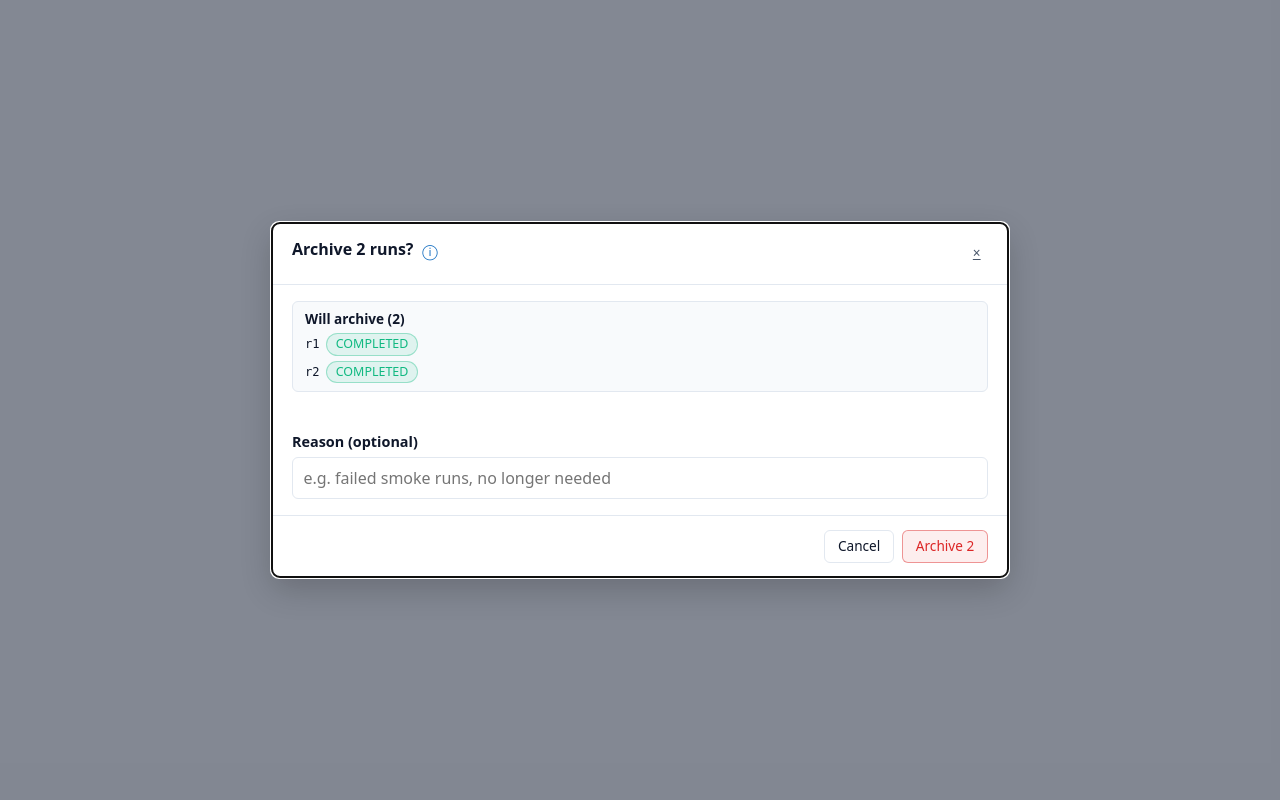
Test case: DeleteRunsConfirmDialog › on partial failure reports the successes, surfaces the error, and stays open
Click the button "Archive 2" at (945, 547), box [902,530,988,563]
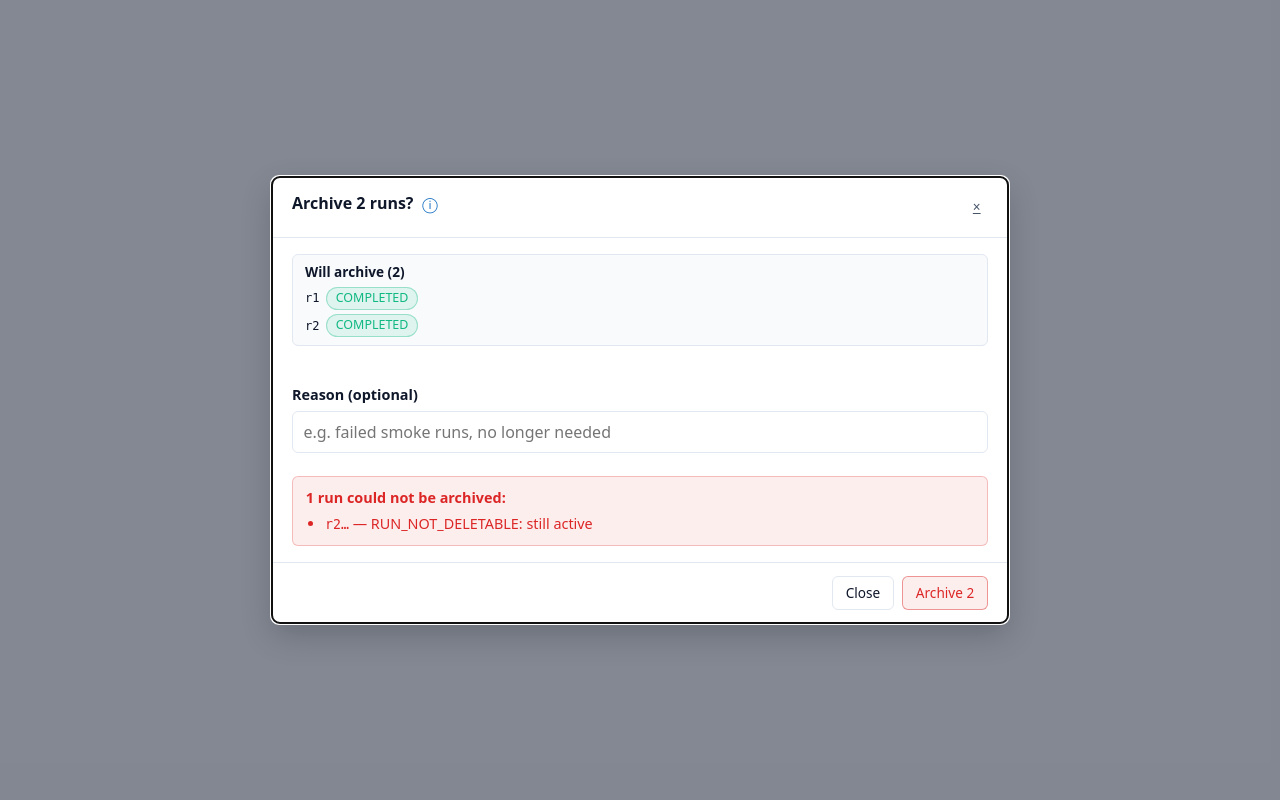
Expected: the list item "r2… — RUN_NOT_DELETABLE: still active" is shown, [325,514,593,533]
